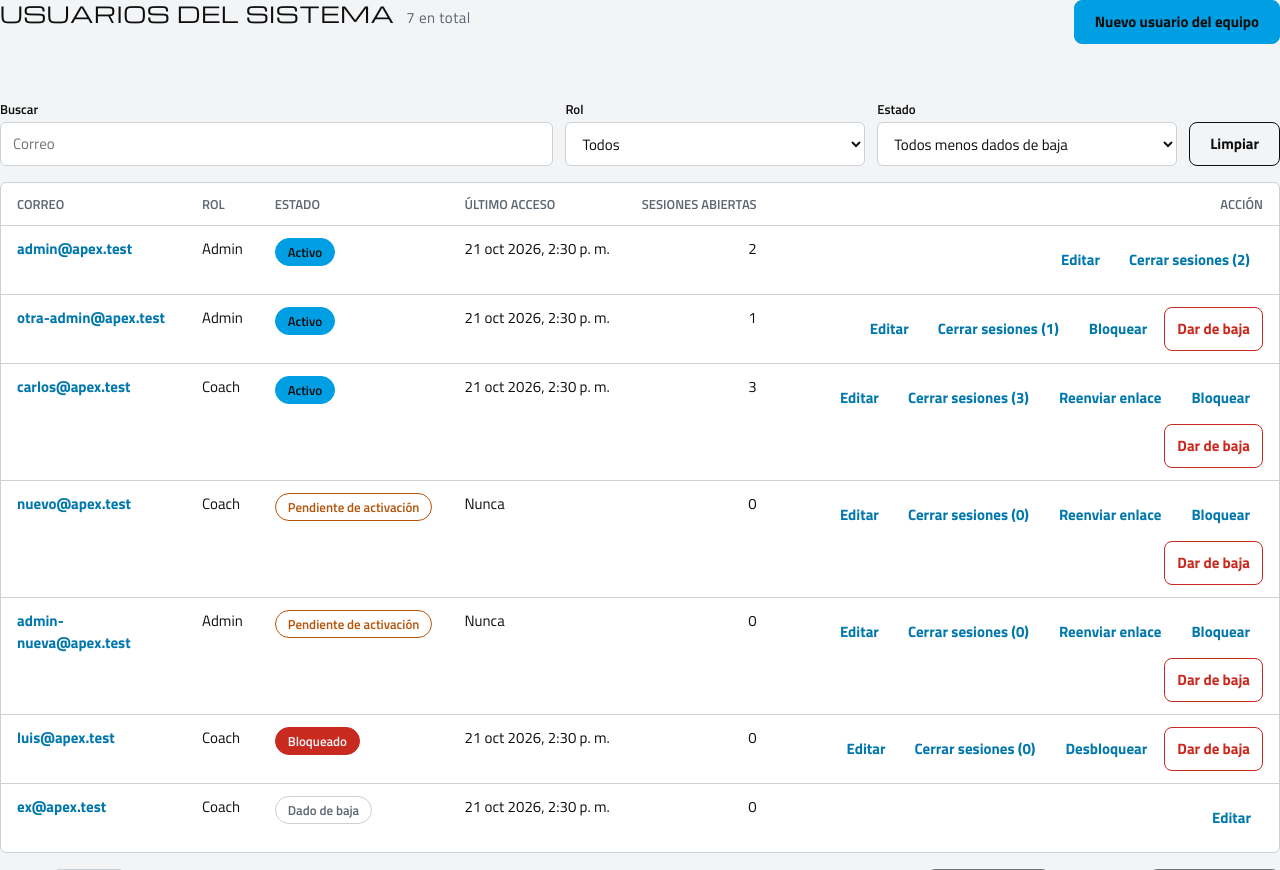
Scenario: UsersPage · bloquear (US-051) › 409 last_admin se explica dentro del modal
Click the button "Bloquear" in the row of "otra-admin@apex.test" at (1118, 329), box [1076, 307, 1160, 351]
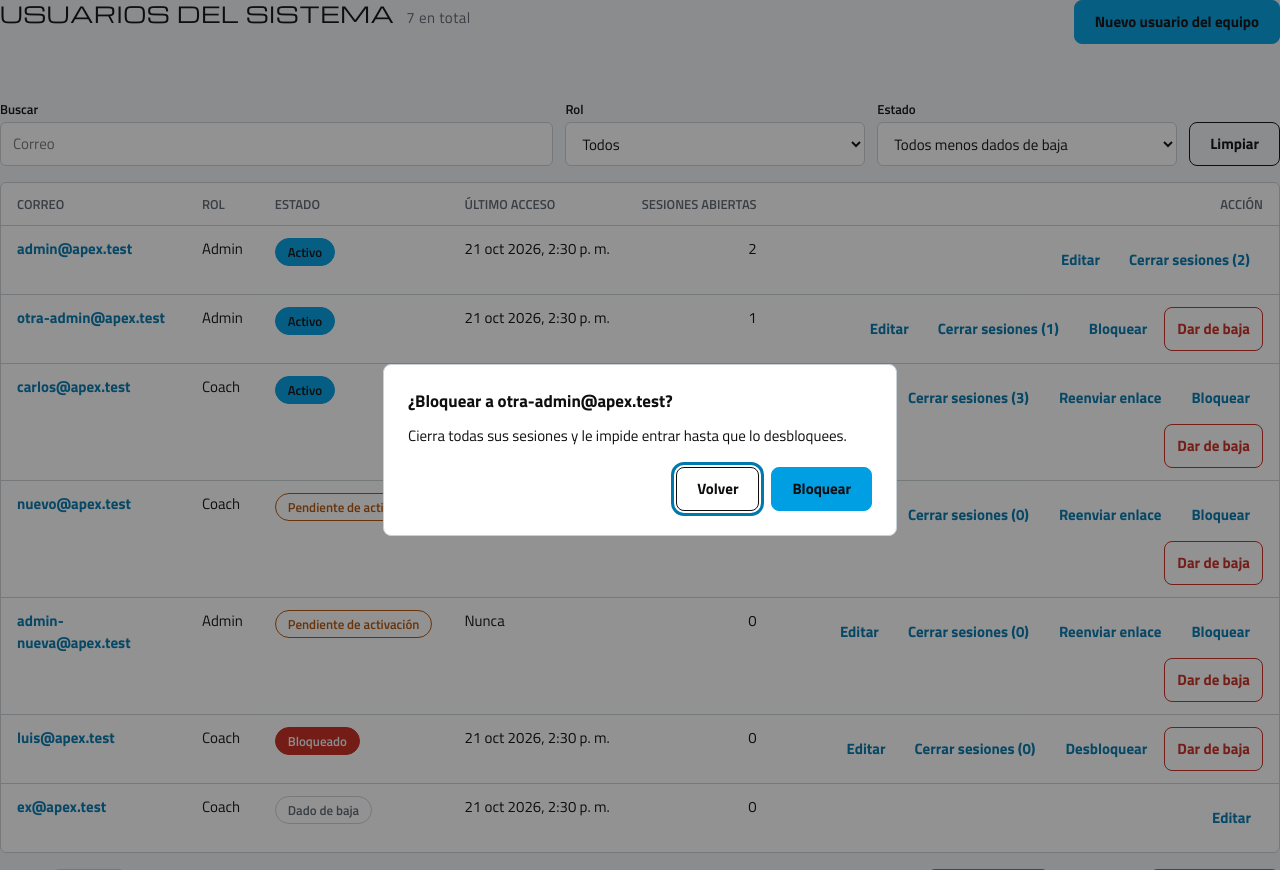
Click the button "Bloquear" at (822, 489), box [772, 467, 872, 511]
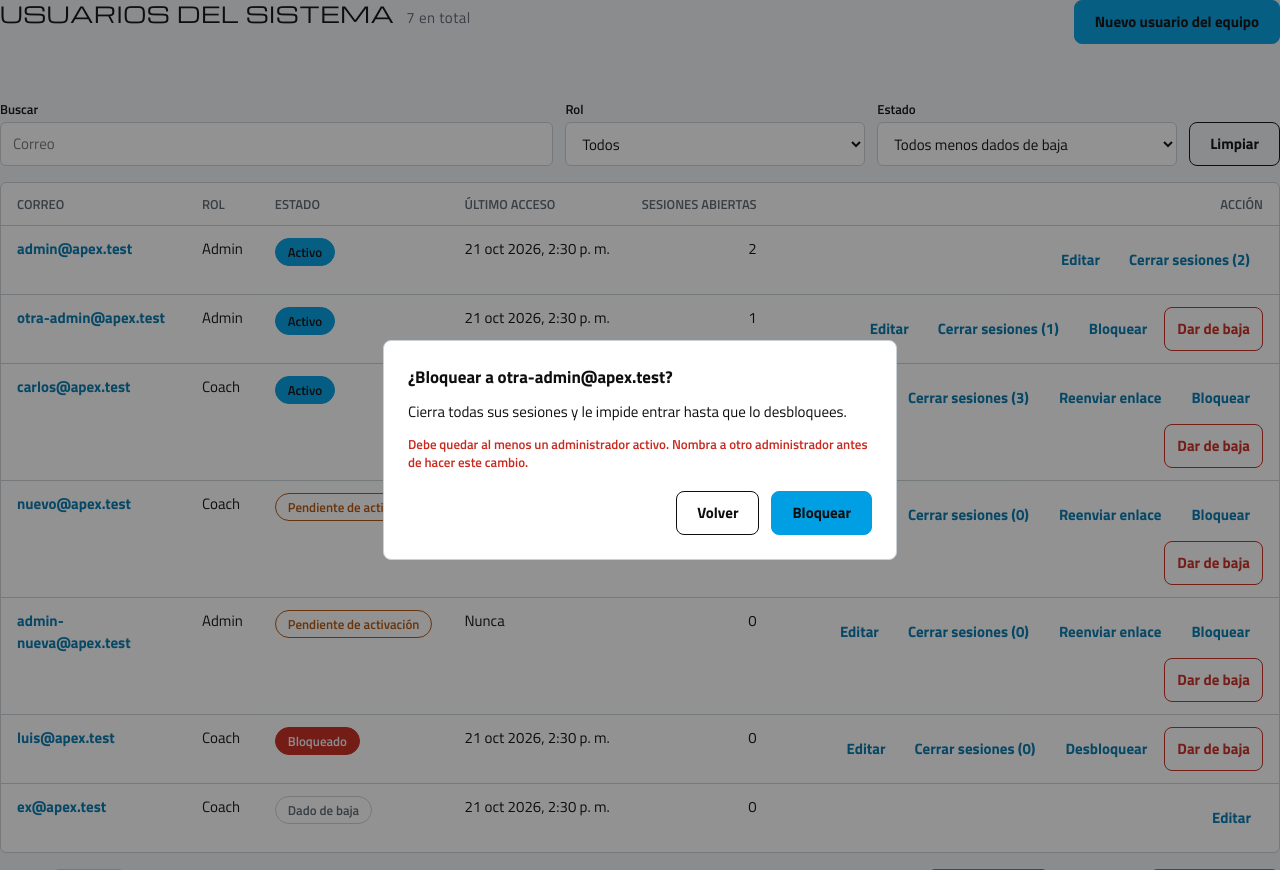
Result: the message shows "Debe quedar al menos un administrador activo. Nombra a otro administrador antes de hacer este cambio." at [408, 434, 868, 472]
